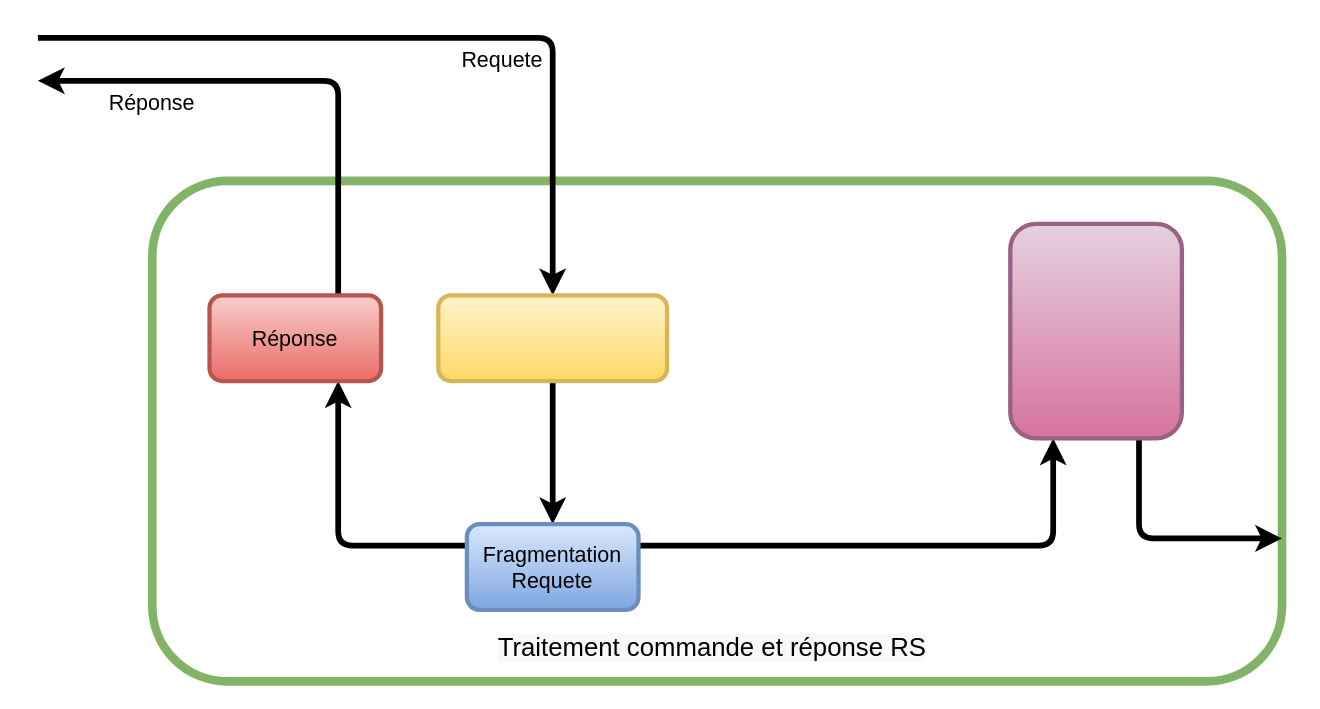
This 1320x709 diagram has some shape labels left out. Each missing label, with the centre of its shape:
"Réception Requete/ Filtrage" belongs at [552,337].
"Struct" belongs at [1095,330].
